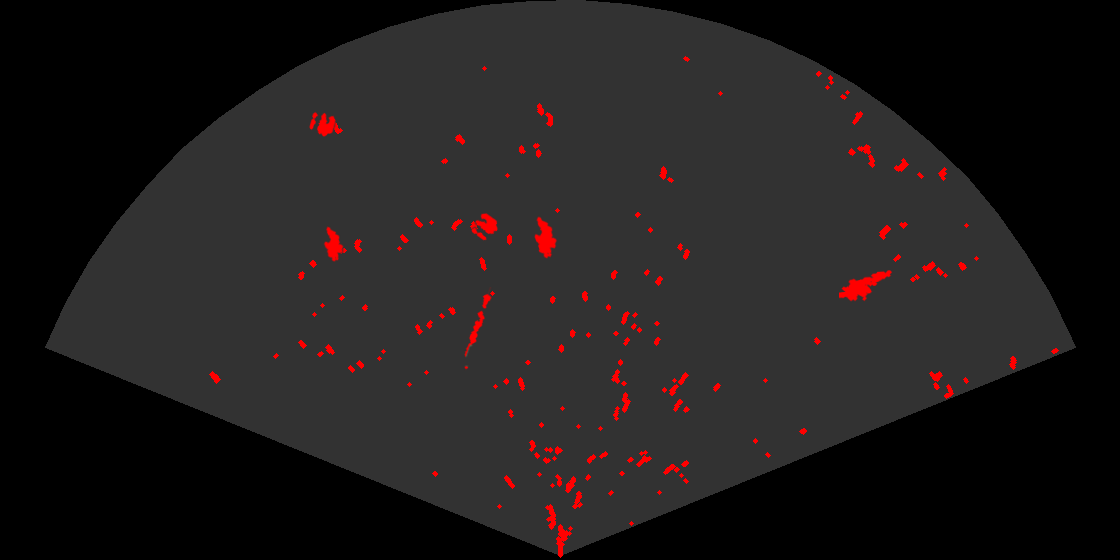AUV: (533, 215, 559, 260), (322, 225, 345, 263)
ball: (470, 212, 499, 242), (308, 110, 337, 138)
chain: (463, 287, 493, 371)
frogman: (839, 269, 894, 303)
